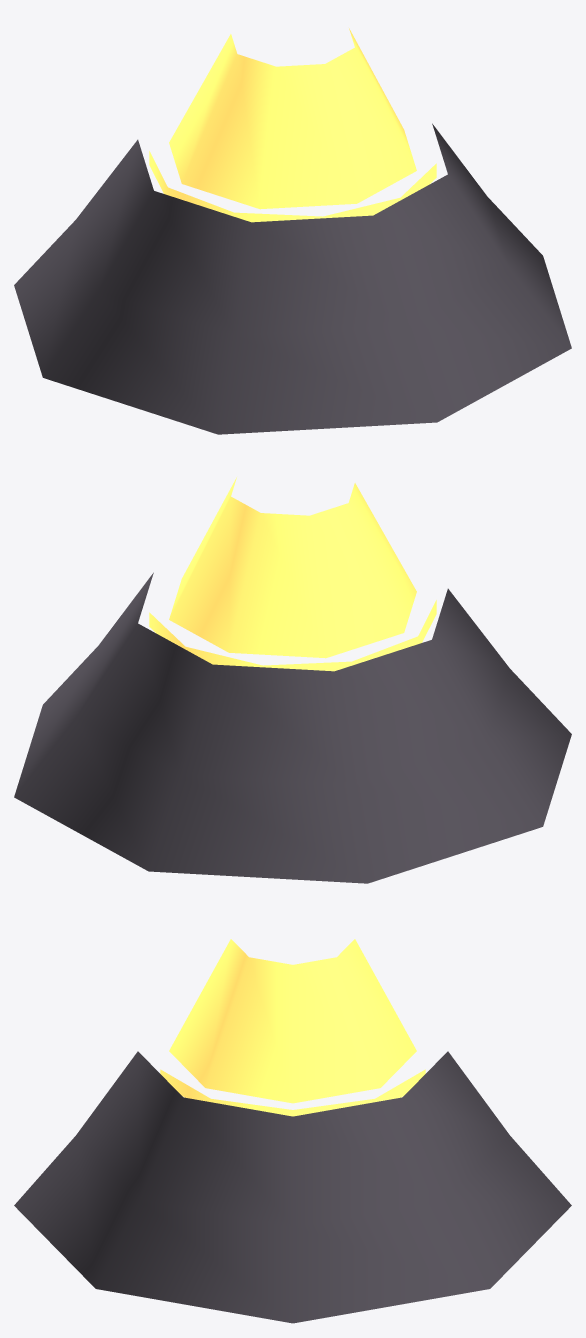
File: magma_pressure_geyser.glb
3 views of the same model, one above another, from view 1: azimuth 30°, elevation 25°; view 2: azimuth 150°, elevation 25°; view 3: azimuth 270°, elevation 25° (orthographic). The views are drawn at different scales.
Parts seen in each view (by area): view 1: RootNode; view 2: RootNode; view 3: RootNode.
Boxes of the visible parts, x1=… form: RootNode: x1=14, y1=28, x2=571, y2=434; RootNode: x1=14, y1=477, x2=571, y2=883; RootNode: x1=14, y1=939, x2=571, y2=1323.
Bounding box in the file's own units: 3.6 × 1.9 × 3.6.
